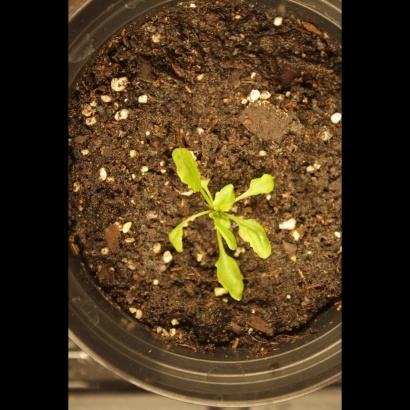leaf: (204, 251, 251, 305), (170, 143, 206, 199), (235, 217, 275, 264), (162, 217, 197, 260), (237, 172, 283, 203), (208, 180, 244, 213), (216, 218, 240, 257), (194, 169, 217, 192)
